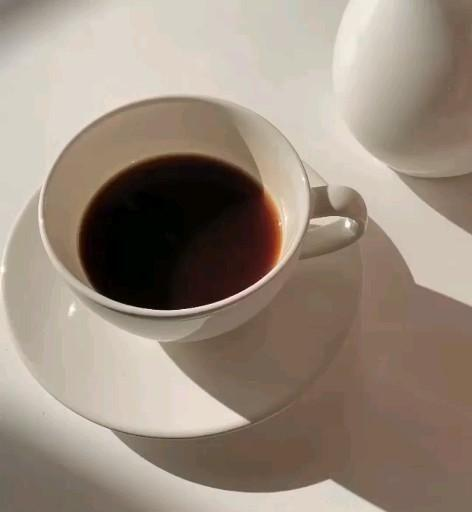cup-handle: (35, 89, 370, 346)
